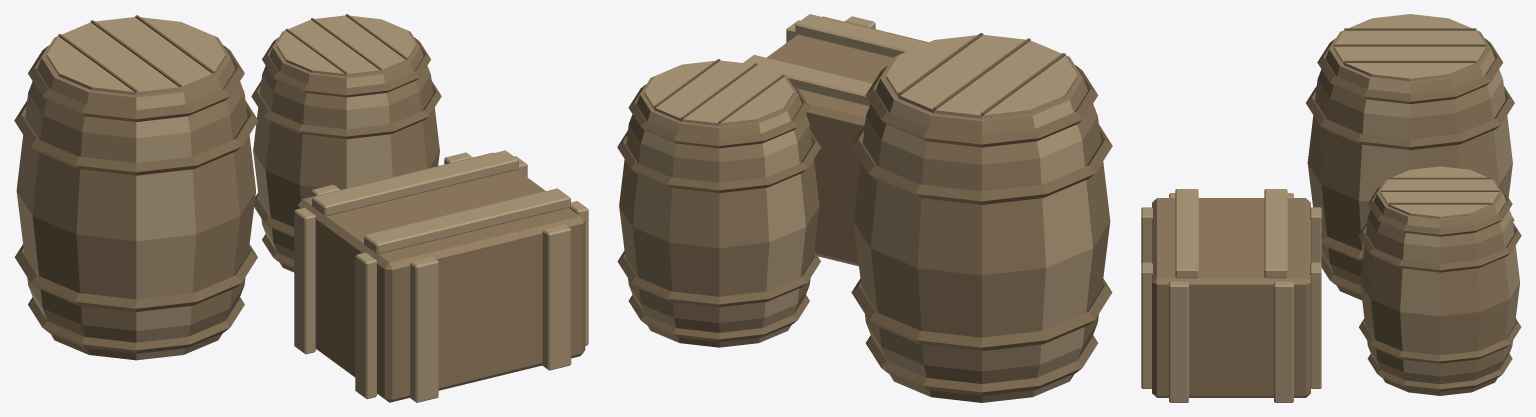
Rendered from camp_barrels.glb.
The picture shows the model from 3 angles, left to right: view 1: azimuth 30°, elevation 25°; view 2: azimuth 150°, elevation 25°; view 3: azimuth 270°, elevation 25°; orthographic projection. The views are drawn at different scales.
Visible parts, largest first — view 1: camp_barrels_oak, camp_barrels_oak_light, camp_barrels_oak_dark; view 2: camp_barrels_oak, camp_barrels_oak_dark, camp_barrels_oak_light; view 3: camp_barrels_oak, camp_barrels_oak_light, camp_barrels_oak_dark.
Boxes of the visible parts, x1,y1,x2,y2 form: camp_barrels_oak: (16,30,585,402); camp_barrels_oak_light: (47,15,588,402); camp_barrels_oak_dark: (14,14,441,353); camp_barrels_oak: (619,16,1110,402); camp_barrels_oak_dark: (617,33,1112,395); camp_barrels_oak_light: (644,14,1077,125); camp_barrels_oak: (1152,30,1520,397); camp_barrels_oak_light: (1141,14,1499,402); camp_barrels_oak_dark: (1306,28,1521,391).
Bounding box in the file's own units: 1.25 × 0.7635 × 1.15.
